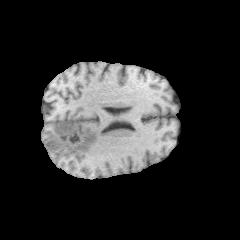glioma: (46, 120, 101, 153)
